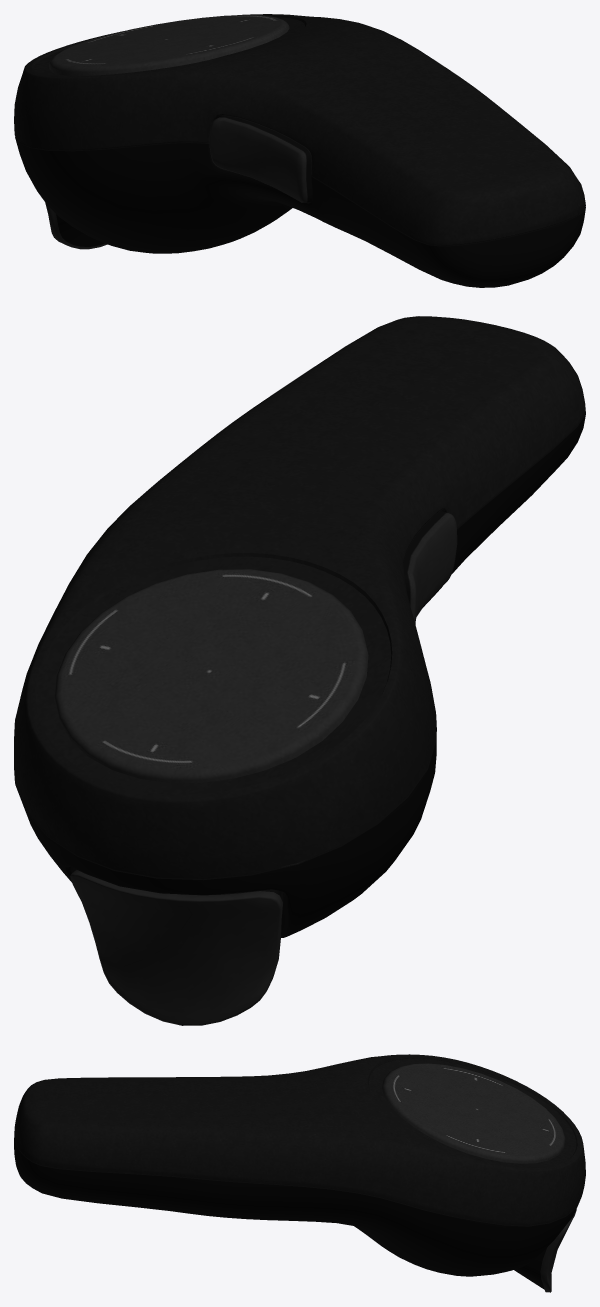
Rendered from generic-trigger-grip-touchpad-R.glb.
3 renders of one model, top to bottom at view 1: azimuth 30°, elevation 25°; view 2: azimuth 150°, elevation 25°; view 3: azimuth 270°, elevation 25°, orthographic. The views are drawn at different scales.
Visible parts, largest first — view 1: Body, TouchPad, Grab_Button, trigger, Plate; view 2: Body, TouchPad, trigger, Plate, Grab_Button; view 3: Body, TouchPad, Plate, trigger.
Part boxes in pixels (left/top/right/bottom): Body: left=14, top=14, right=585, bottom=287; TouchPad: left=49, top=15, right=289, bottom=75; Grab_Button: left=209, top=115, right=312, bottom=202; trigger: left=45, top=203, right=107, bottom=249; Plate: left=33, top=17, right=304, bottom=76; Body: left=14, top=316, right=585, bottom=937; TouchPad: left=54, top=569, right=368, bottom=782; trigger: left=70, top=870, right=282, bottom=1025; Plate: left=36, top=556, right=391, bottom=794; Grab_Button: left=403, top=510, right=457, bottom=624; Body: left=14, top=1054, right=585, bottom=1276; TouchPad: left=382, top=1063, right=565, bottom=1163; Plate: left=369, top=1058, right=576, bottom=1168; trigger: left=514, top=1209, right=576, bottom=1292.
Size of the model in its own units: 0.065 by 0.056 by 0.1319.
1 material, 1 textured.
